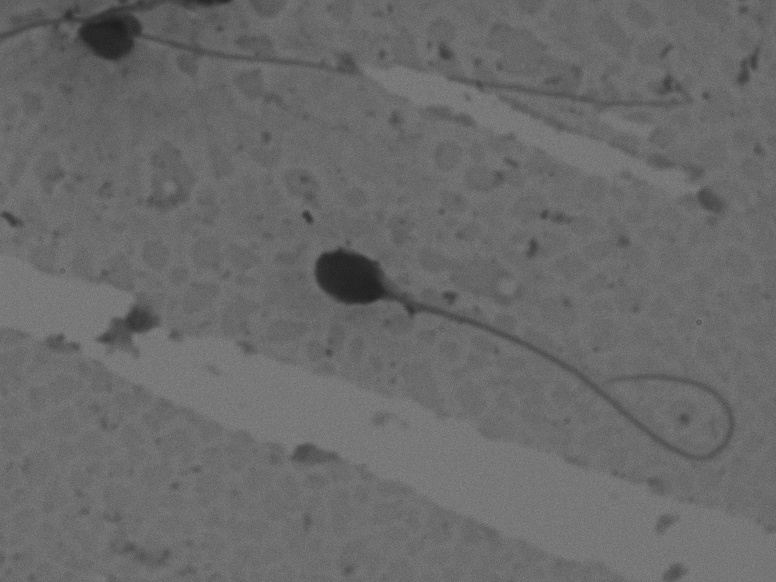Abnormal: (286, 219, 748, 490)
